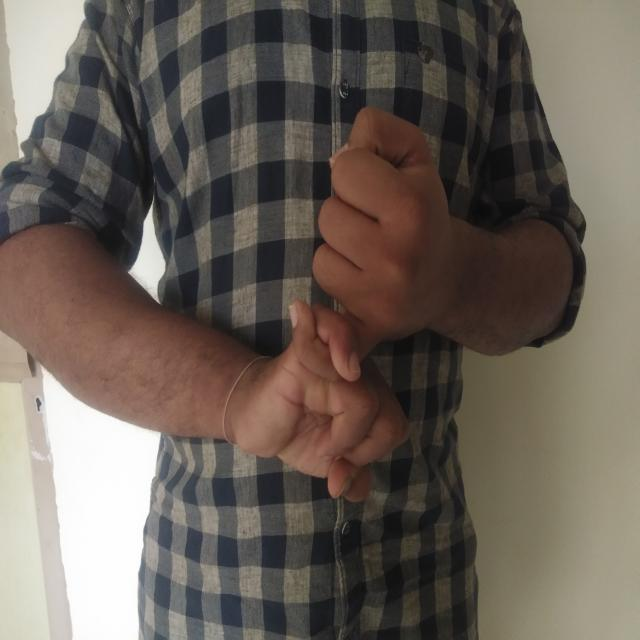S: (220, 94, 482, 521)
